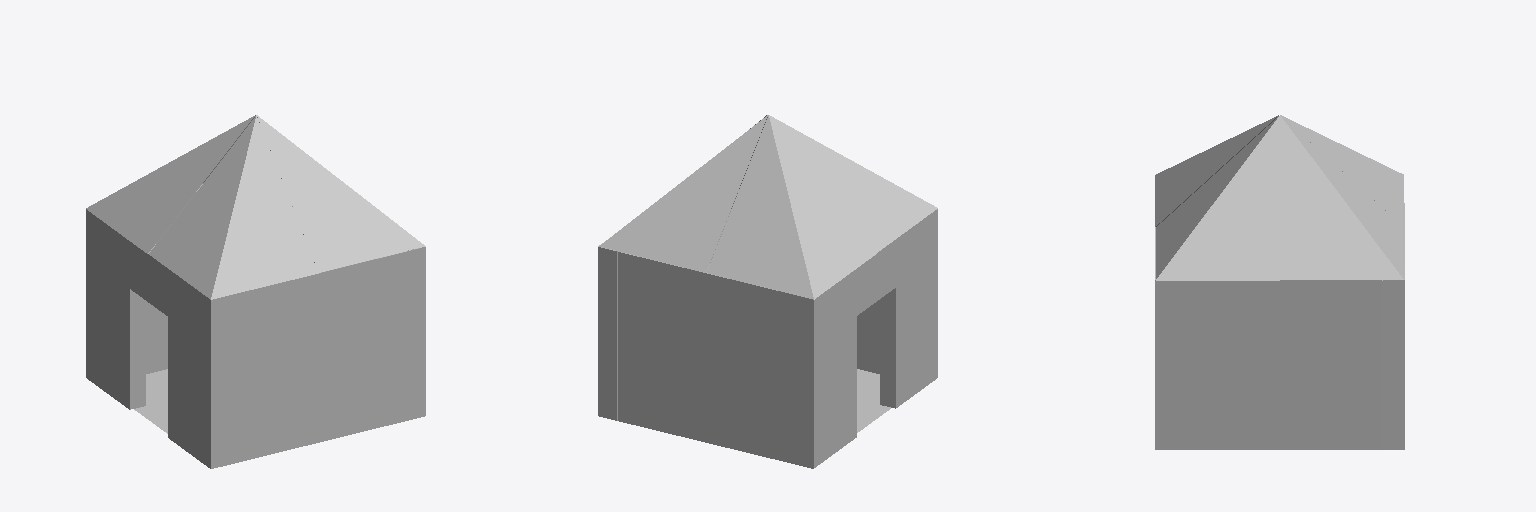
The model's file is house.obj.
3 views of the same model, side by side, from view 1: azimuth 30°, elevation 25°; view 2: azimuth 150°, elevation 25°; view 3: azimuth 270°, elevation 25° (orthographic).
Visible parts, largest first — view 1: Cube; view 2: Cube; view 3: Cube.
Boxes of the visible parts, box(x1,y1,x2,y2) form: Cube: box(86, 115, 425, 468); Cube: box(598, 115, 937, 468); Cube: box(1155, 115, 1404, 449).
Bounding box in the file's own units: 6.03 × 7.5 × 6.03.